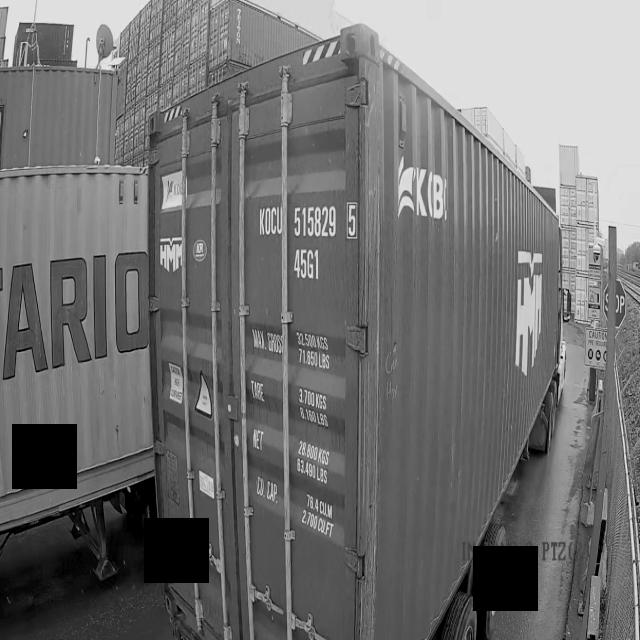container_company_logo: (515, 275, 542, 375), (160, 236, 180, 271), (518, 251, 541, 273)
container_number: (254, 192, 361, 298)
other_container_info: (248, 320, 348, 540)
truck_with_container: (138, 24, 564, 640)
